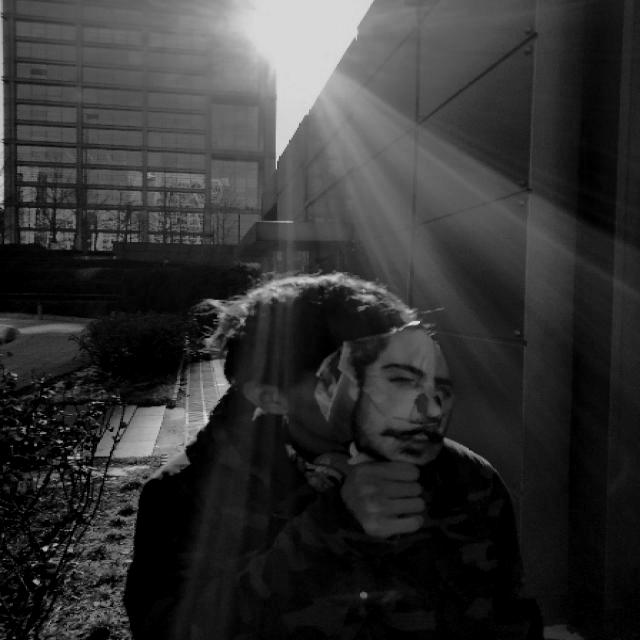fake: (200, 267, 462, 478)
